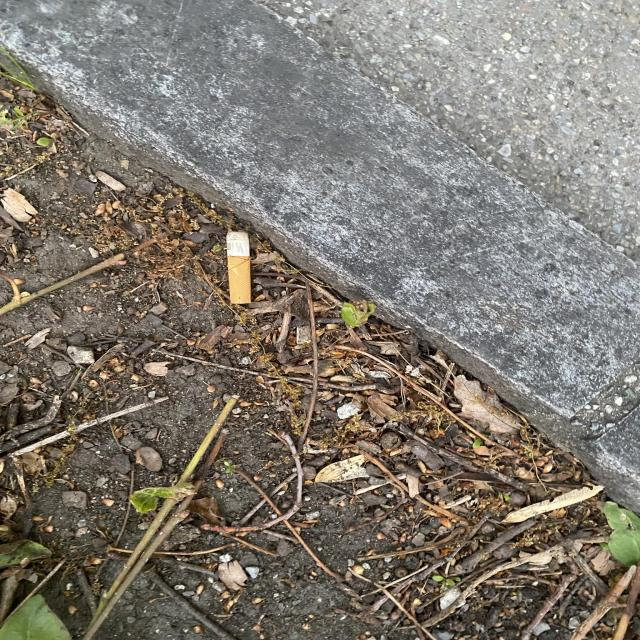other waste: (226, 230, 251, 304)
